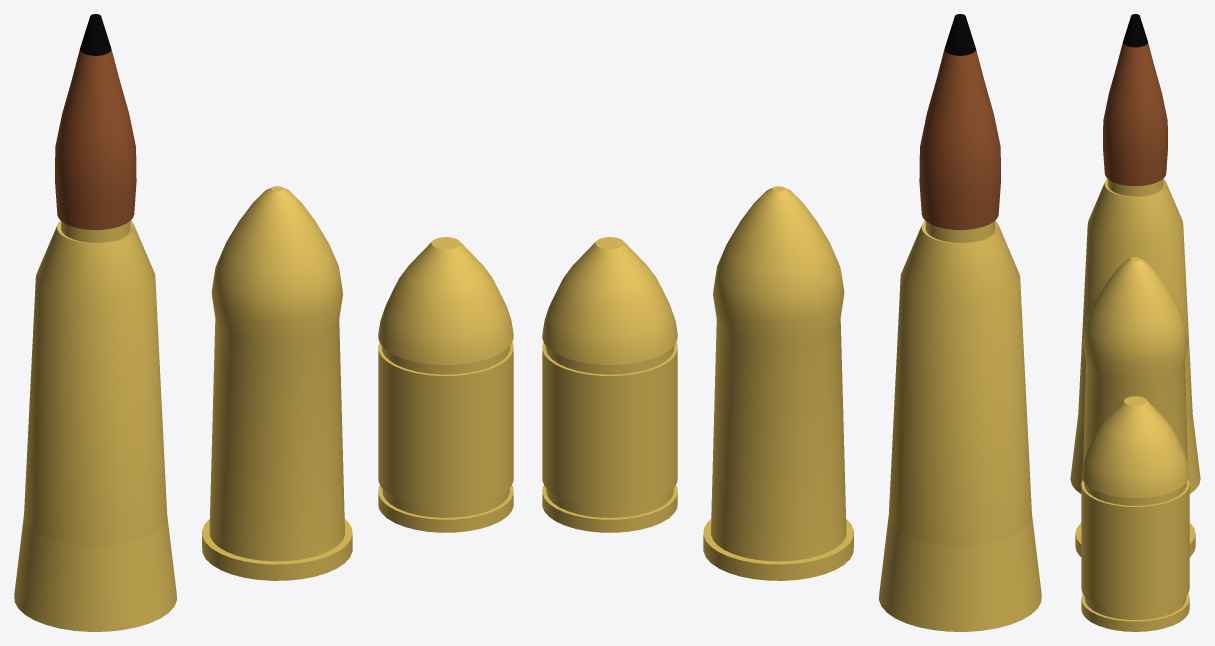
Rendered from mermi.fbx.
The picture shows the model from 3 angles, left to right: view 1: azimuth 30°, elevation 25°; view 2: azimuth 150°, elevation 25°; view 3: azimuth 270°, elevation 25°; orthographic projection. The views are drawn at different scales.
Visible parts, largest first — view 1: Cylinder.001, Cylinder, Cylinder.004, Cylinder.003, Cylinder.002; view 2: Cylinder.001, Cylinder, Cylinder.004, Cylinder.003, Cylinder.002; view 3: Cylinder.004, Cylinder, Cylinder.001, Cylinder.003, Cylinder.002.
Boxes of the visible parts, x1,y1,x2,y2 form: Cylinder.001: [14, 220, 176, 631]; Cylinder: [202, 186, 352, 580]; Cylinder.004: [378, 237, 513, 532]; Cylinder.003: [55, 49, 136, 229]; Cylinder.002: [80, 14, 111, 55]; Cylinder.001: [879, 220, 1041, 631]; Cylinder: [703, 186, 853, 580]; Cylinder.004: [542, 237, 677, 532]; Cylinder.003: [919, 49, 1000, 229]; Cylinder.002: [944, 14, 975, 55]; Cylinder.004: [1081, 396, 1189, 631]; Cylinder: [1075, 257, 1195, 556]; Cylinder.001: [1070, 178, 1200, 493]; Cylinder.003: [1103, 42, 1167, 186]; Cylinder.002: [1123, 14, 1147, 47].
Bounding box in the file's own units: 204 × 236 × 60.1.
